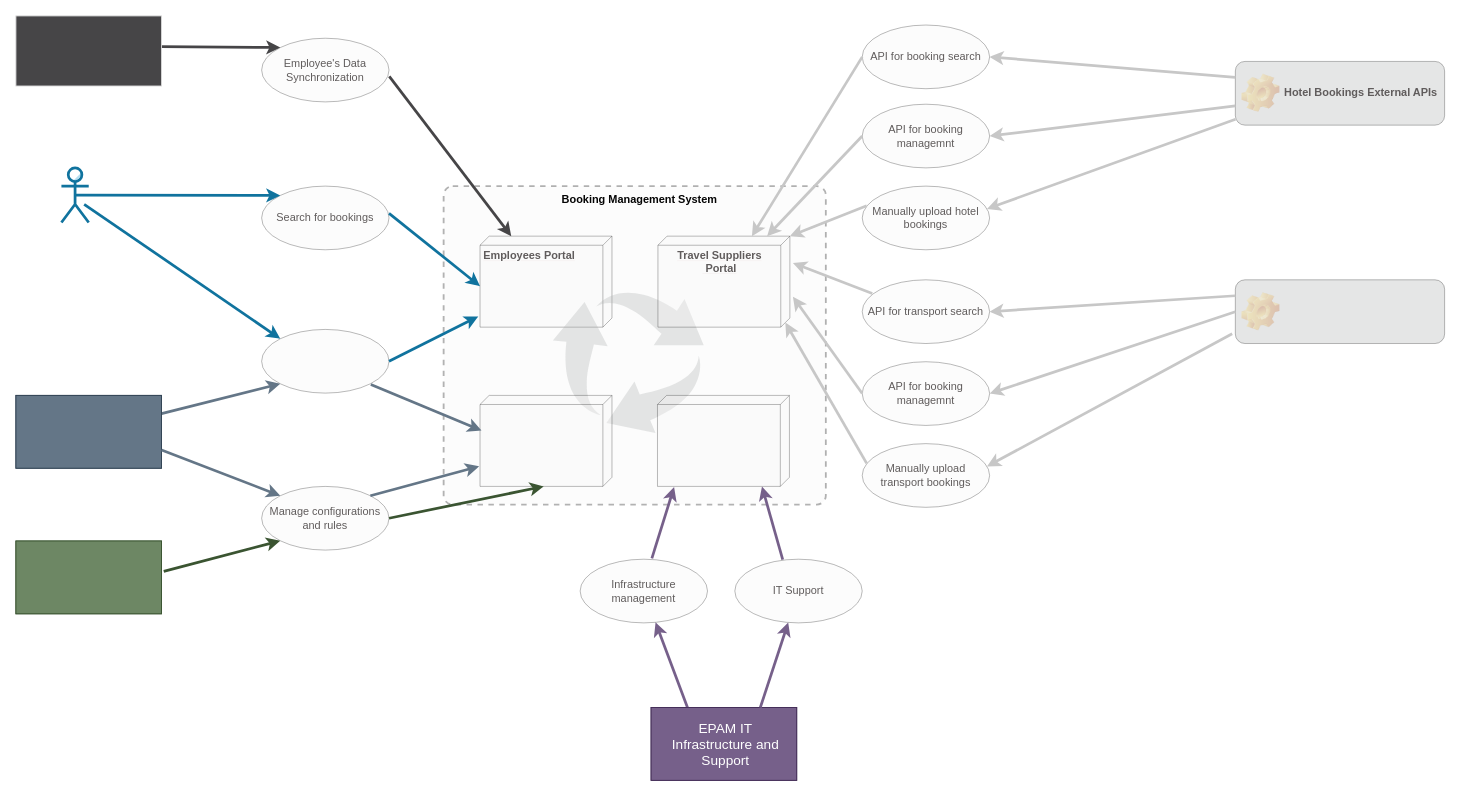
Image size: 1461x796. Some labels were removed from this diagram. The shapes that lost their labels are listed below. From the top down, each one's centre as x and y in pixels, then its label:
the point at 88,50: People EPAM
the point at 75,194: EPAM Employee
the point at 1339,311: Transport Bookings External APIs
the point at 325,361: Manage bookings
the point at 88,431: EPAM Travel Department
the point at 545,440: Administration Portal
the point at 723,440: System Administration Portal
the point at 88,577: EPAM Cost Tracking Center
